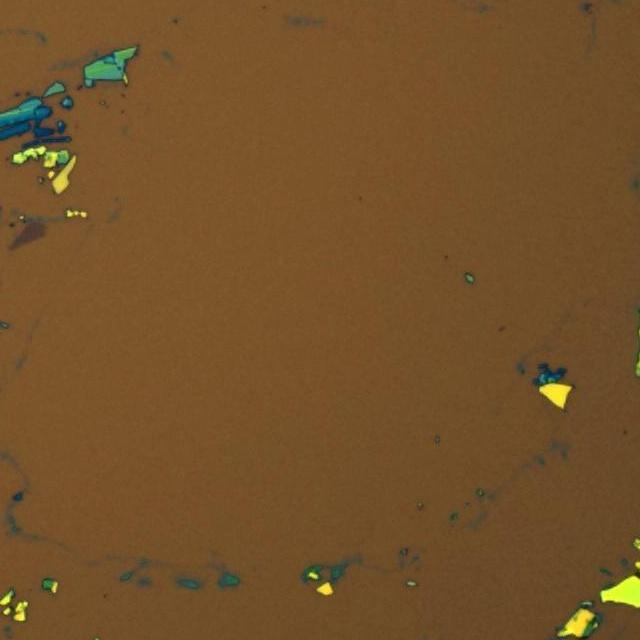monolayer-eWW4: (8, 221, 48, 252)
